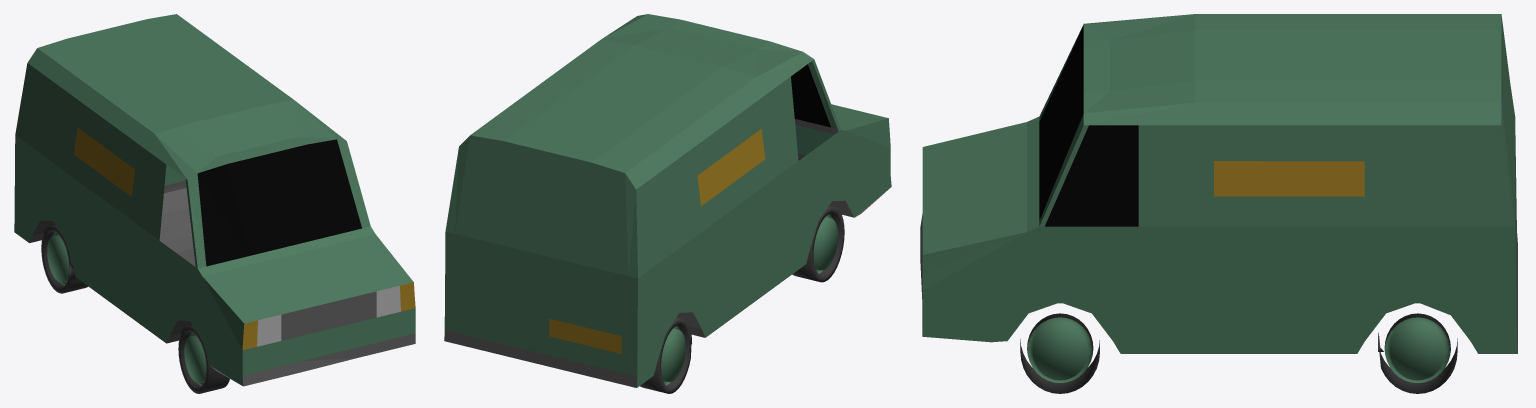
File: leyland-daf-200.dae
The picture shows the model from 3 angles, left to right: view 1: azimuth 30°, elevation 25°; view 2: azimuth 150°, elevation 25°; view 3: azimuth 270°, elevation 25°; orthographic projection. The views are drawn at different scales.
Visible parts, largest first — view 1: Cube_001, Plane_001; view 2: Cube_001, Plane_001, Plane_002; view 3: Cube_001, Plane.
Boxes of the visible parts, <box> form: Cube_001: <box>14,14,415,393</box>; Plane_001: <box>74,127,134,196</box>; Cube_001: <box>444,14,891,393</box>; Plane_001: <box>697,129,765,205</box>; Plane_002: <box>549,318,621,353</box>; Cube_001: <box>920,14,1517,393</box>; Plane: <box>1214,161,1364,196</box>.
Size of the model in its own units: 1.14 by 2.63 by 1.38.
